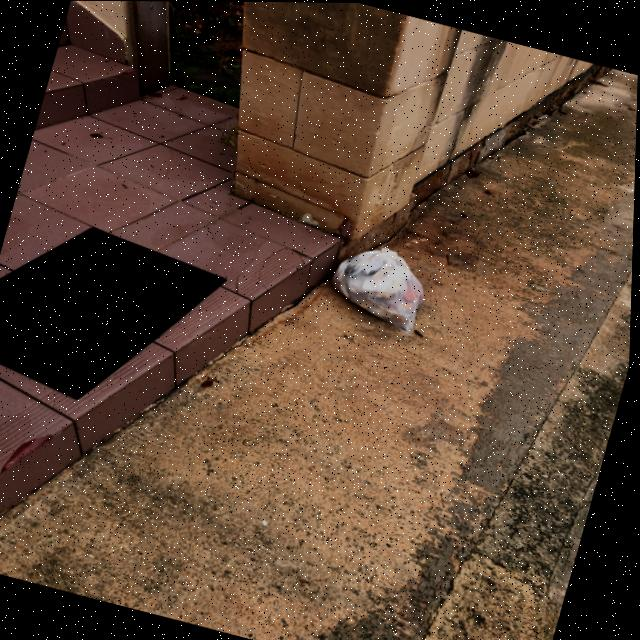Organic Waste -White Bag-: (324, 236, 435, 334)
